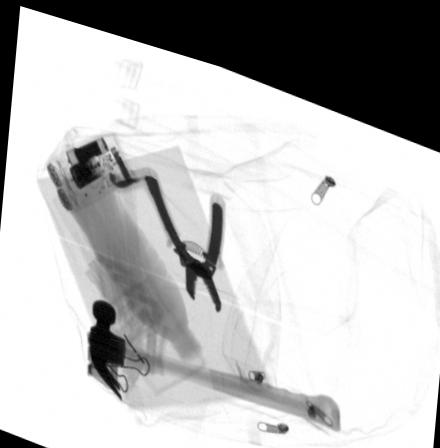Hammer: (88, 293, 339, 411)
Pliers: (129, 157, 225, 300)
